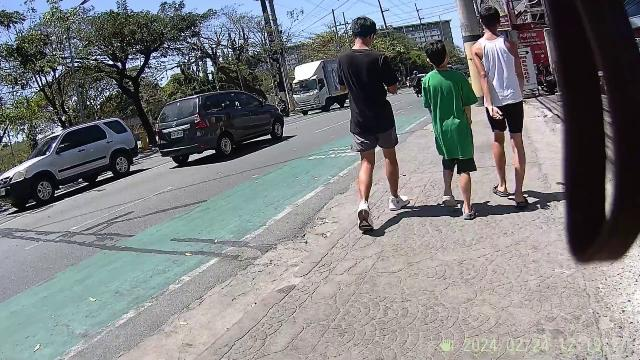car: (0, 120, 138, 196), (153, 90, 291, 158)
